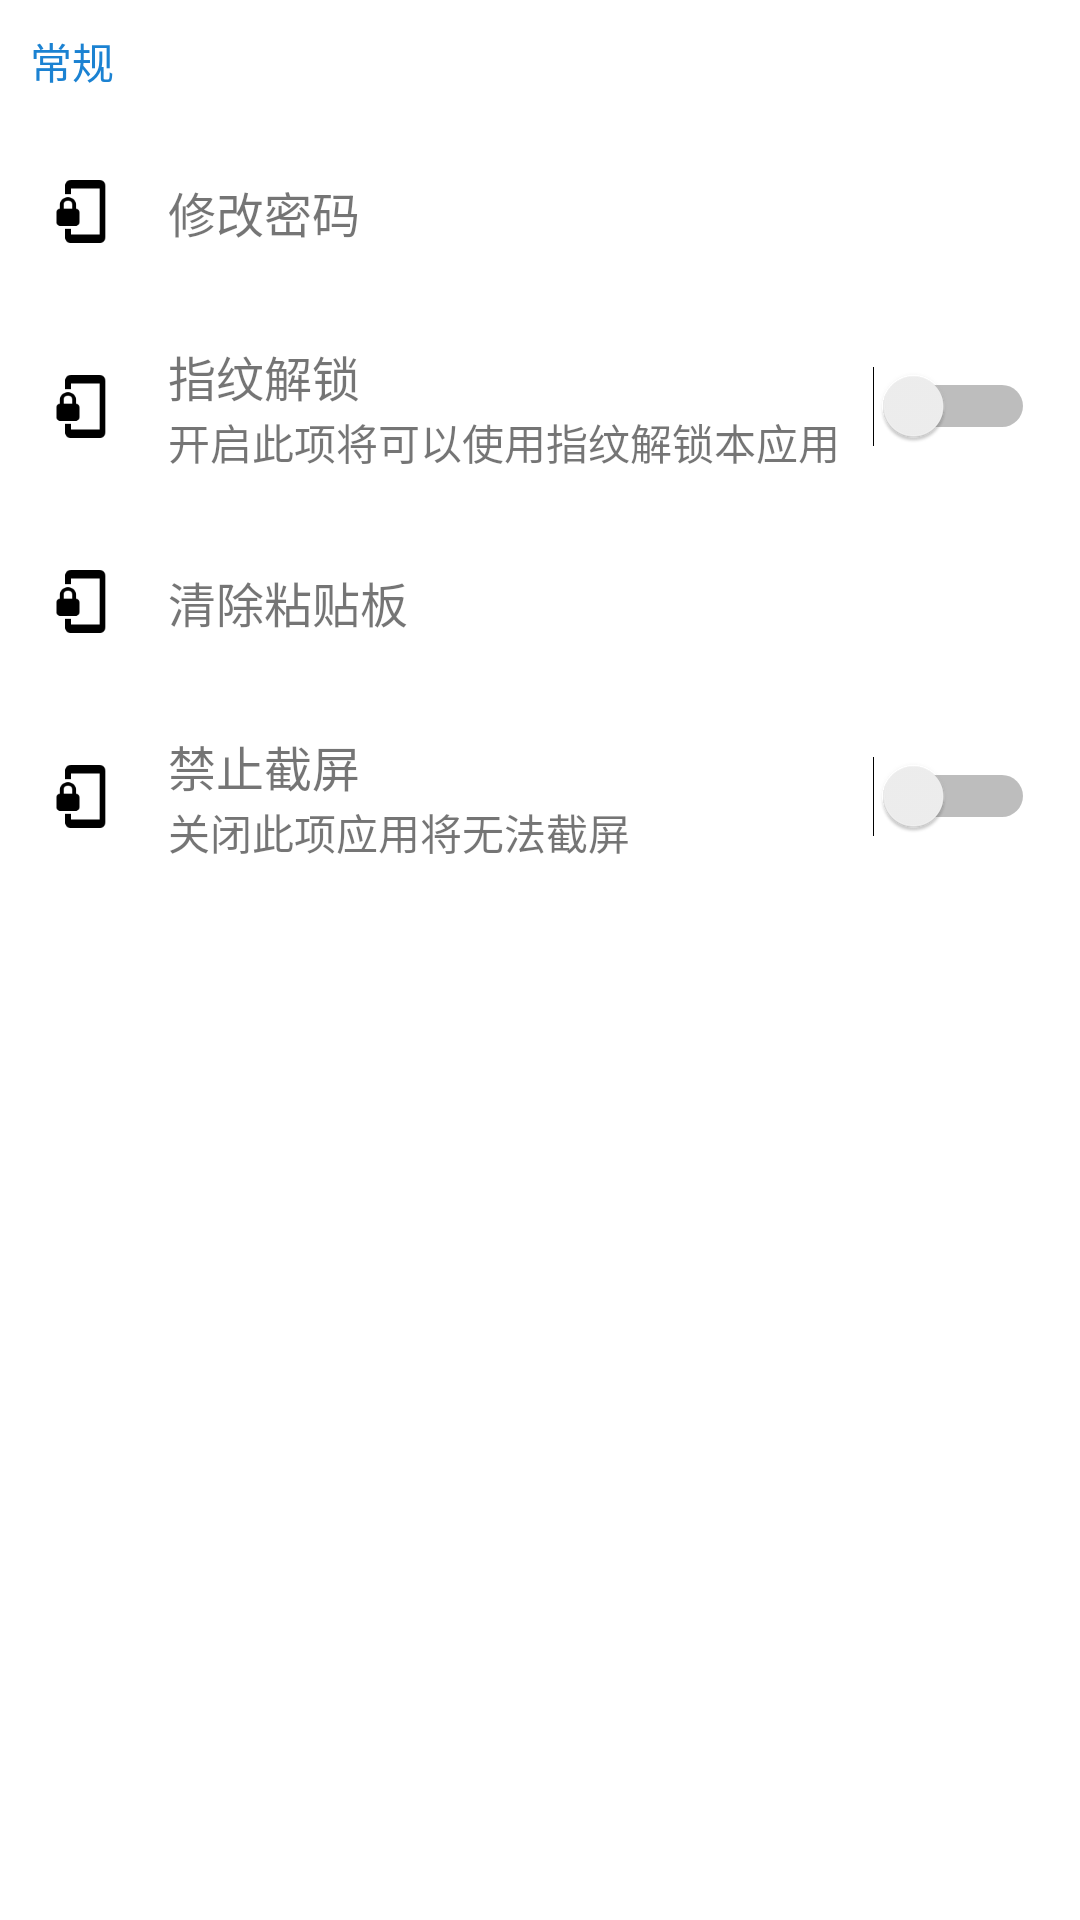

Icons on this 1080w x 1920h Android screen, each with its box as (x1, y1, x2, y2):
modify pwd: (56, 180, 106, 243), (56, 375, 106, 438), (56, 570, 106, 633), (56, 765, 106, 828)
